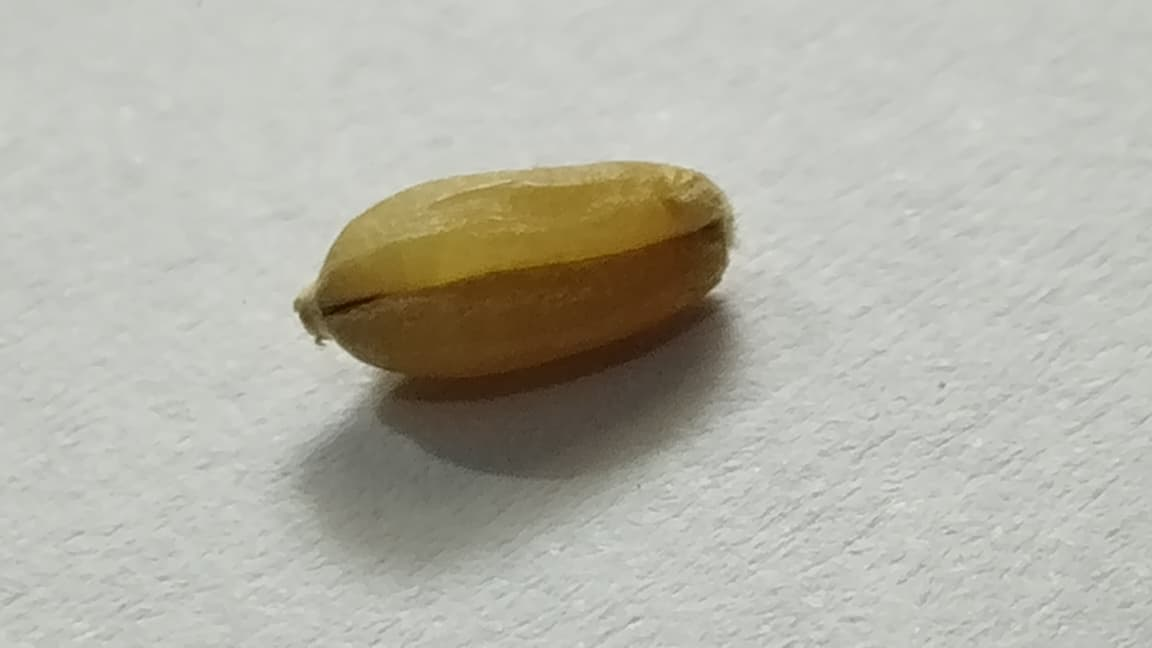healthy: (294, 160, 732, 378)
